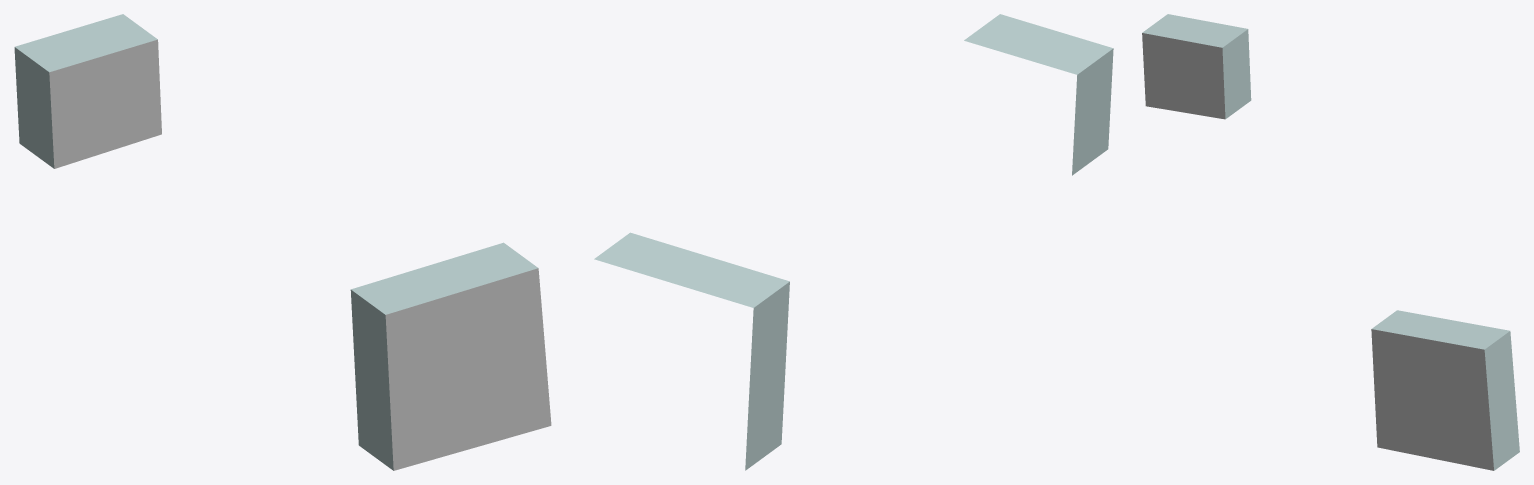
3 views of the same model, side by side, from view 1: azimuth 30°, elevation 25°; view 2: azimuth 150°, elevation 25°; view 3: azimuth 330°, elevation 25° (orthographic). The views are drawn at different scales.
Visible parts, largest first — view 1: 0_3_1_0_2_1_2_0_2; view 2: 0_3_1_0_2_1_2_0_2; view 3: 0_3_1_0_2_1_2_0_2.
Part boxes in pixels (x1,y1,x2,y2): 0_3_1_0_2_1_2_0_2: [14, 14, 551, 470]; 0_3_1_0_2_1_2_0_2: [594, 14, 1113, 470]; 0_3_1_0_2_1_2_0_2: [1142, 14, 1519, 470].
Bounding box in the file's own units: 24.29 × 22.6 × 4.13.
